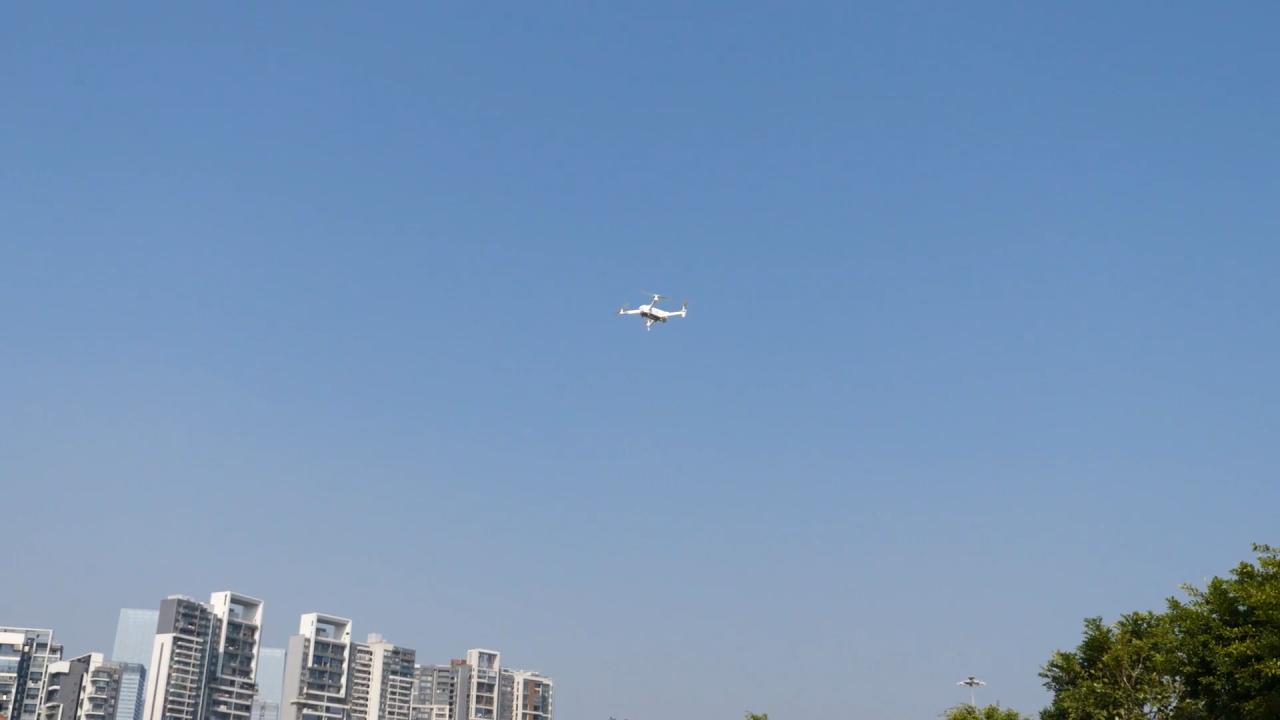Drone: (610, 284, 695, 339)
